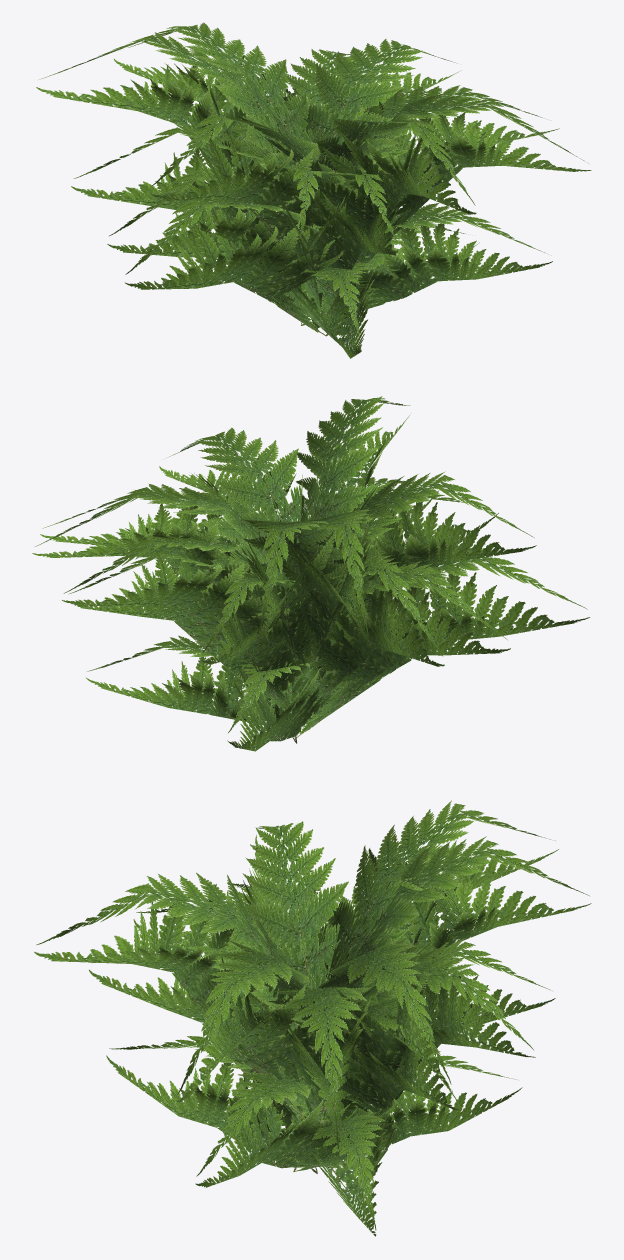
The model's file is Farn03.FBX.
3 views of the same model, one above another, from view 1: azimuth 30°, elevation 25°; view 2: azimuth 150°, elevation 25°; view 3: azimuth 270°, elevation 25° (orthographic). The views are drawn at different scales.
Parts seen in each view (by area): view 1: Yucca02; view 2: Yucca02; view 3: Yucca02.
Part boxes in pixels (left/top/right/bottom): Yucca02: left=36, top=22, right=591, bottom=358; Yucca02: left=32, top=396, right=589, bottom=751; Yucca02: left=34, top=800, right=591, bottom=1236.
Bounding box in the file's own units: 223 × 121 × 204.
1 material, 1 textured.
